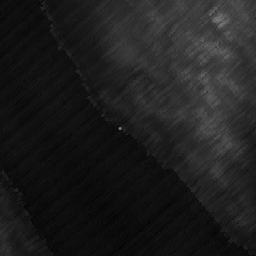Target: (115, 125, 123, 132)
